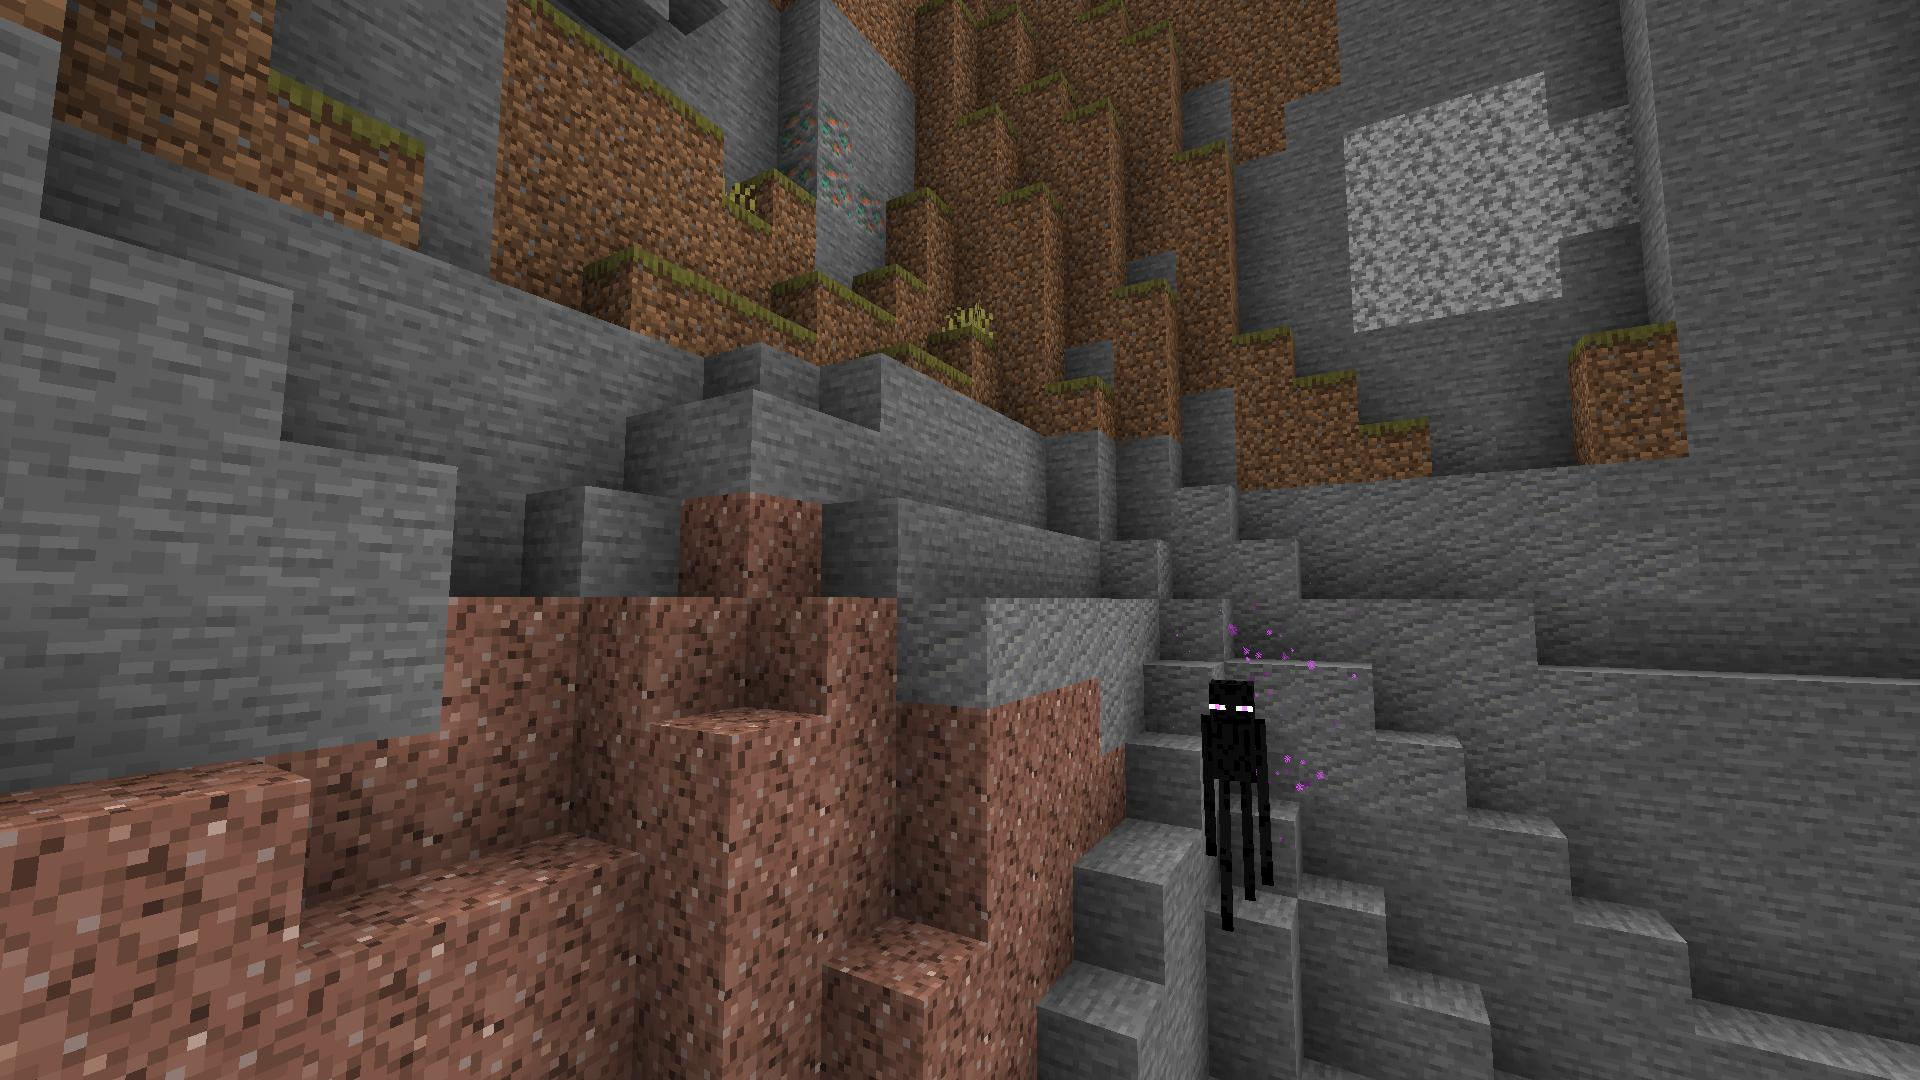enderman: (1192, 676, 1280, 934)
